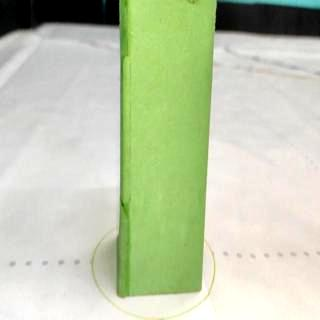greenbox: (119, 0, 208, 295)
